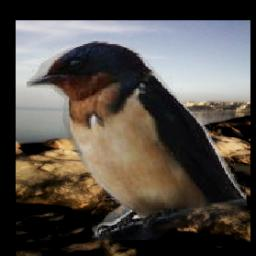Swallow: (27, 40, 247, 241)
